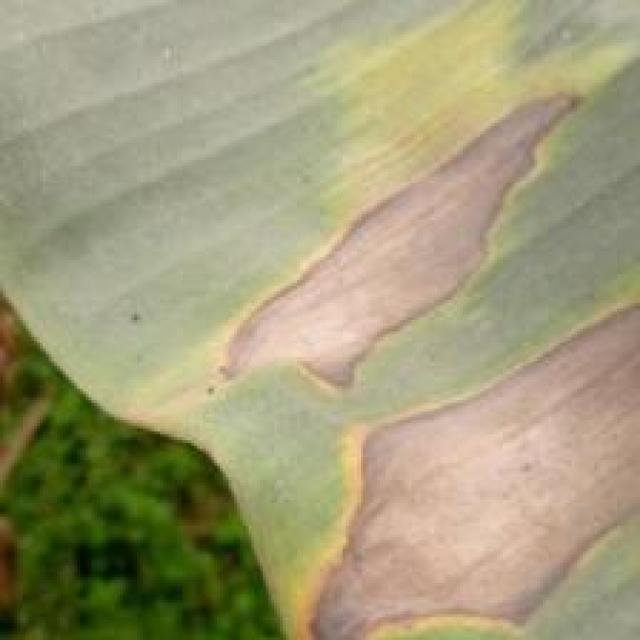Bacterial_spot: (197, 68, 600, 415), (260, 289, 640, 637)
